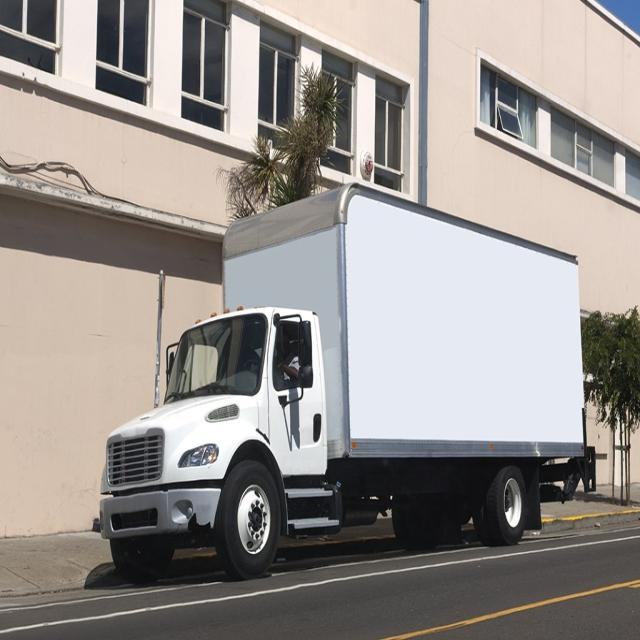normal_truck: (93, 179, 592, 582)
